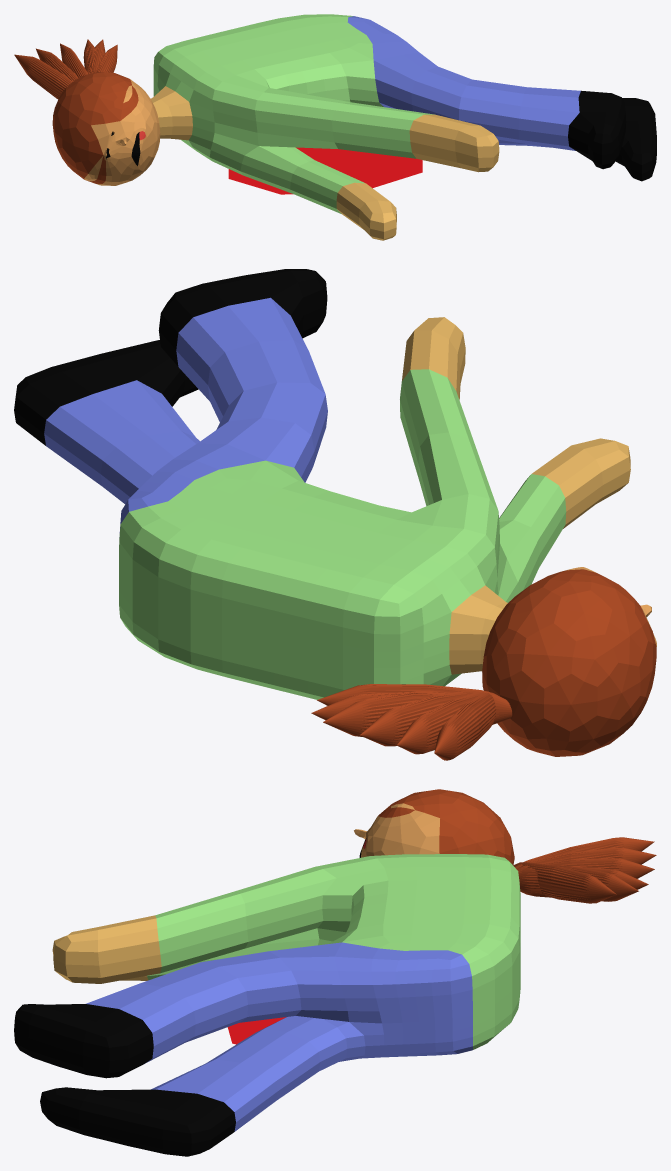
The model's file is Dead body.fbx.
3 views of the same model, one above another, from view 1: azimuth 30°, elevation 25°; view 2: azimuth 150°, elevation 25°; view 3: azimuth 270°, elevation 25° (orthographic). The views are drawn at different scales.
Visible parts, largest first — view 1: Cube, Icosphere, Plane, Cylinder.004, Cylinder.005, Cylinder.003, Cylinder; view 2: Cube, Icosphere, Cylinder.004, Cylinder.003, Cylinder.002, Cylinder.005, Cylinder, Cylinder.001; view 3: Cube, Icosphere, Cylinder, Cylinder.005, Cylinder.003, Cylinder.002, Cylinder.004, Cylinder.001, Plane.
Boxes of the visible parts, x1,y1,x2,y2 form: Cube: [151, 14, 656, 240]; Icosphere: [52, 72, 160, 185]; Plane: [228, 147, 422, 194]; Cylinder.004: [14, 54, 72, 99]; Cylinder.005: [36, 48, 78, 81]; Cylinder.003: [60, 43, 87, 77]; Cylinder: [95, 44, 117, 72]; Cube: [14, 269, 630, 699]; Icosphere: [482, 567, 656, 756]; Cylinder.004: [434, 693, 496, 760]; Cylinder.003: [360, 691, 469, 746]; Cylinder.002: [323, 691, 437, 736]; Cylinder.005: [397, 691, 488, 754]; Cylinder: [317, 684, 512, 724]; Cylinder.001: [311, 691, 500, 722]; Cube: [14, 854, 520, 1156]; Icosphere: [354, 789, 514, 864]; Cylinder: [513, 862, 616, 903]; Cylinder.005: [515, 847, 656, 868]; Cylinder.003: [516, 858, 654, 878]; Cylinder.002: [518, 866, 648, 897]; Cylinder.004: [518, 837, 654, 864]; Cylinder.001: [552, 865, 638, 901]; Plane: [227, 1017, 286, 1044].
Bounding box in the file's own units: 458 × 93 × 427.
